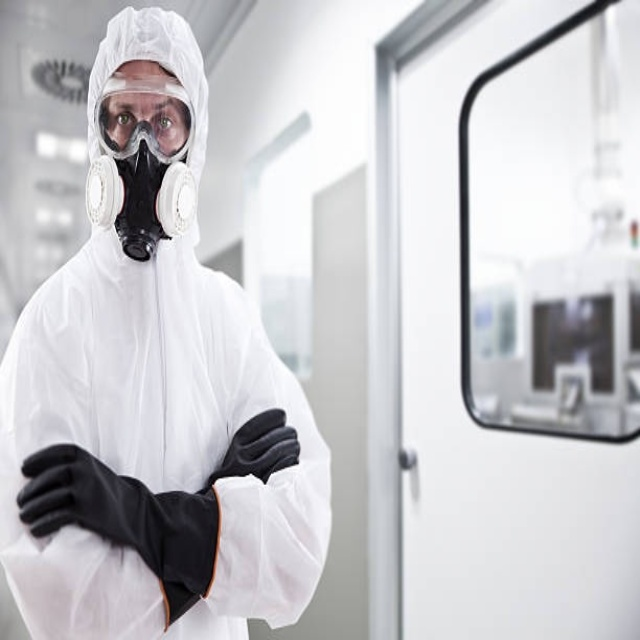Gafas: (96, 85, 197, 164)
Guantes: (19, 439, 217, 620), (207, 407, 300, 487)
Mascara: (84, 122, 201, 262)
